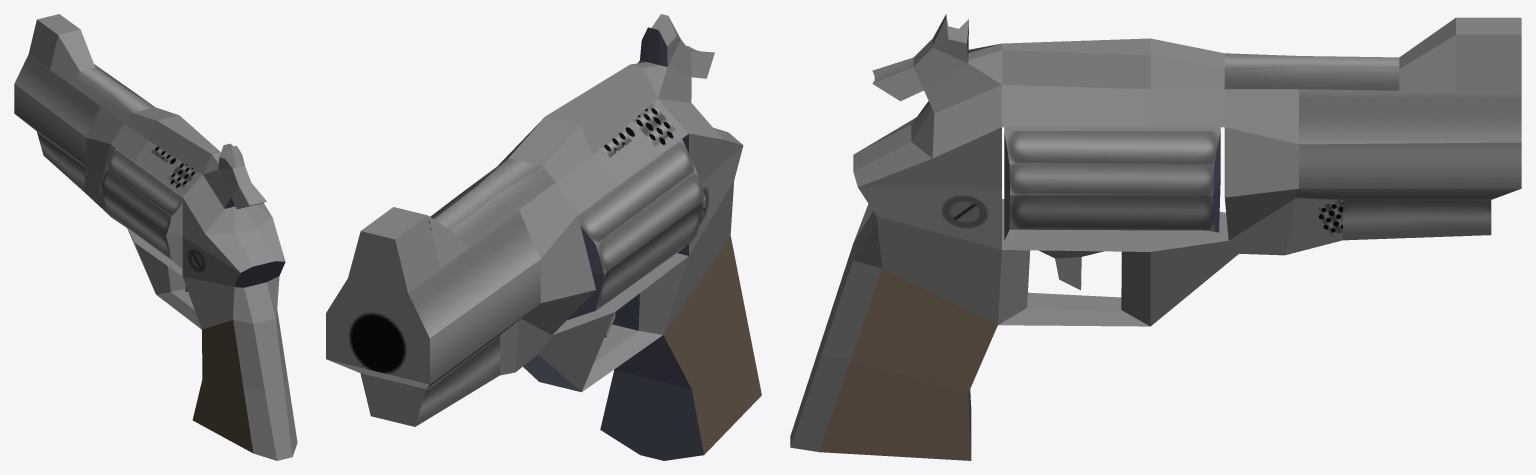
Rendered from Revolver 1.fbx.
3 views of the same model, side by side, from view 1: azimuth 30°, elevation 25°; view 2: azimuth 150°, elevation 25°; view 3: azimuth 270°, elevation 25° (orthographic). The views are drawn at different scales.
Parts seen in each view (by area): view 1: Cube; view 2: Cube; view 3: Cube.
Boxes of the visible parts, box(x1,y1,x2,y2) form: Cube: box(14, 14, 297, 460); Cube: box(326, 14, 761, 460); Cube: box(790, 14, 1521, 460).
Size of the model in its own units: 115 by 327 by 498.
